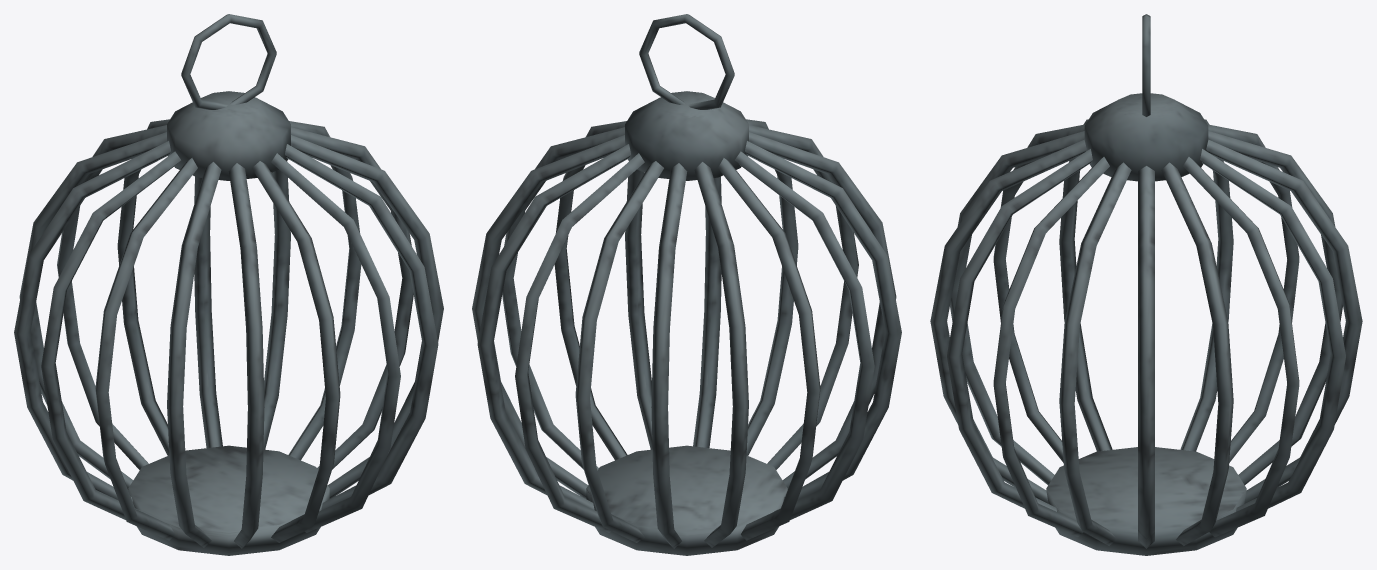
The model's file is Cage.fbx.
3 renders of one model, left to right at view 1: azimuth 30°, elevation 25°; view 2: azimuth 150°, elevation 25°; view 3: azimuth 270°, elevation 25°, orthographic.
Visible parts, largest first — view 1: cage; view 2: cage; view 3: cage.
Boxes of the visible parts, x1,y1,x2,y2 form: cage: (14, 14, 443, 555); cage: (472, 14, 901, 555); cage: (930, 14, 1362, 555).
Size of the model in its own units: 2.37 by 3.01 by 2.37.
1 material, 1 textured.
